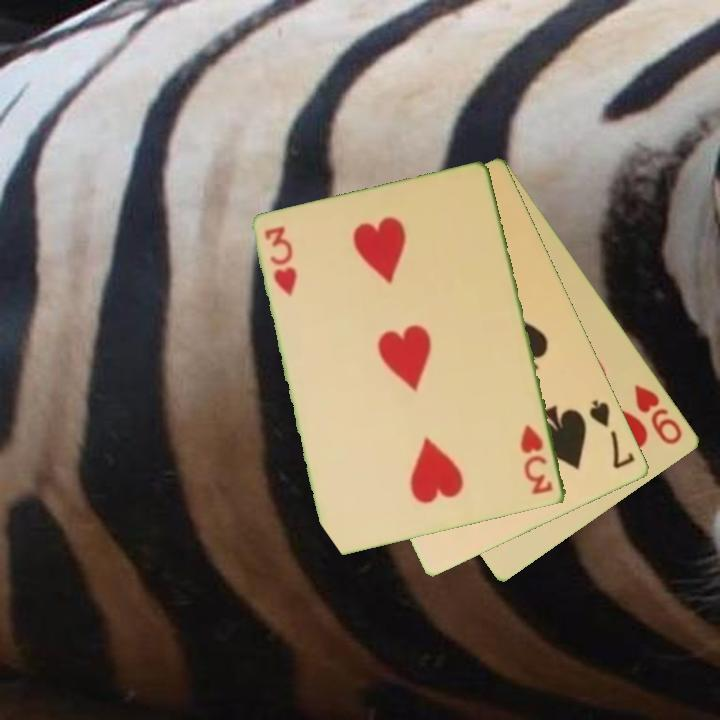3h: (261, 222, 300, 300), (517, 421, 556, 498)
7s: (586, 396, 639, 472)
9h: (631, 381, 686, 448)
